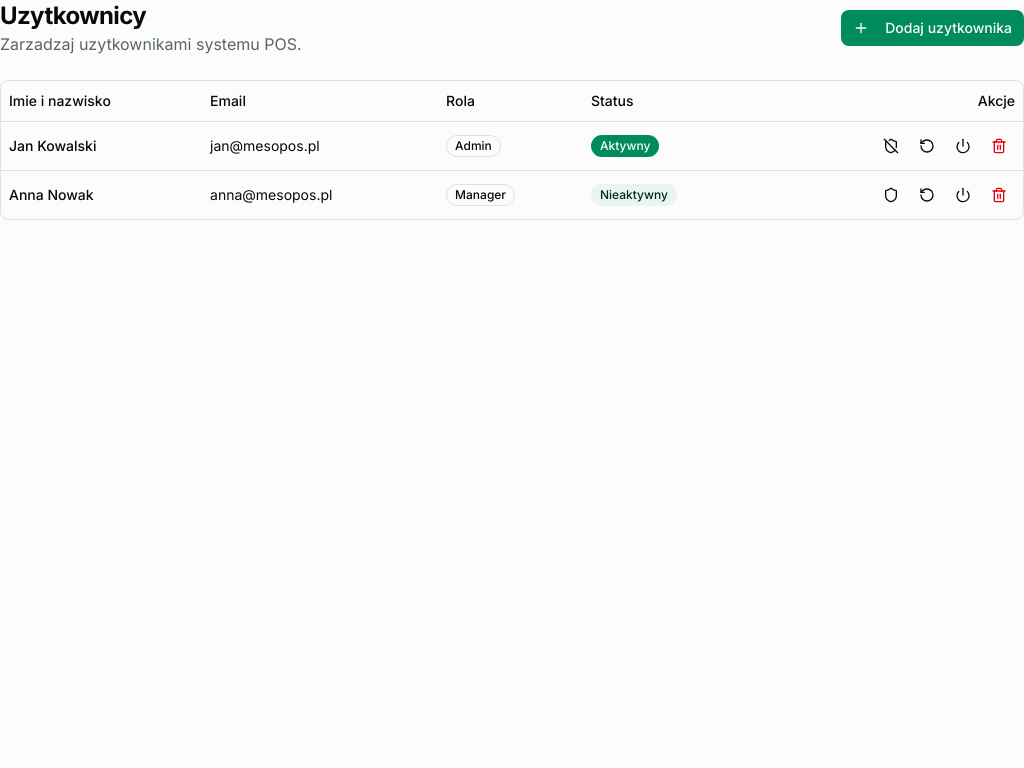
Test case: AdminUsersPage › successful user creation closes dialog and reloads list
This screenshot has width=1024, height=768.
Check: the text "Jan Kowalski" is shown, box [1,121,202,170]
Click the button "Dodaj uzytkownika" at [933, 28], box [841,10,1023,46]
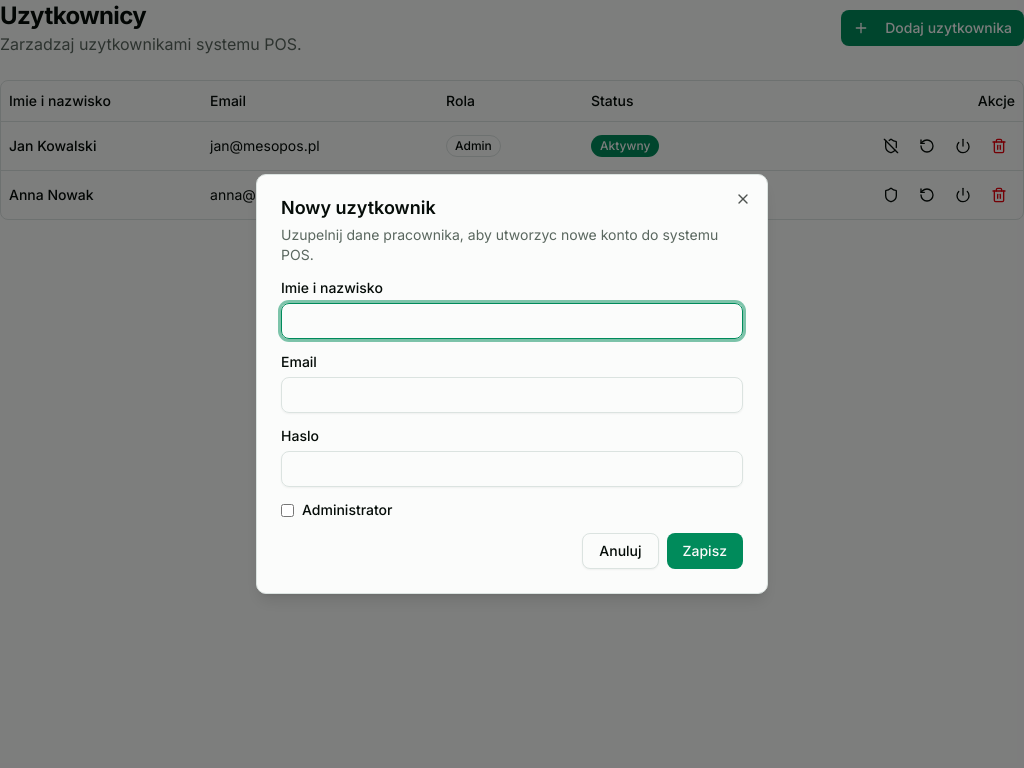
Check: the dialog is shown, box [256,174,768,594]
# Fill the form
Type "Nowy Pracownik" into the field labelled "Imie i nazwisko" at [512, 321], box [281,303,743,339]
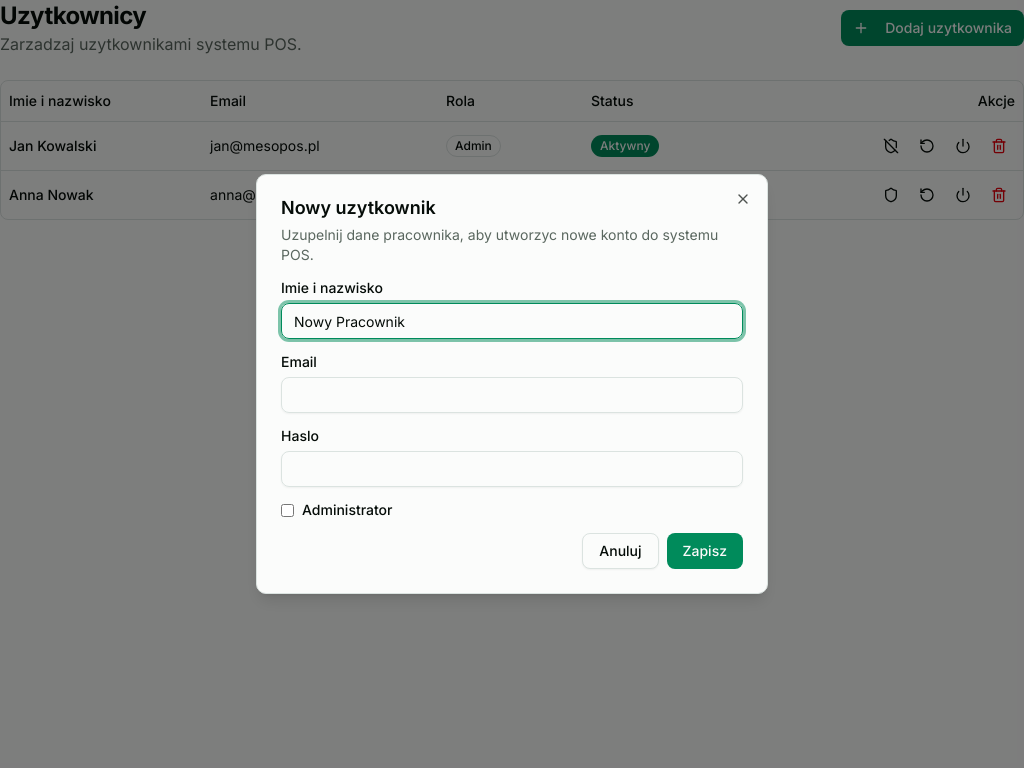
Type "nowy@mesopos.pl" into the field labelled "Email" at [512, 395], box [281,377,743,413]
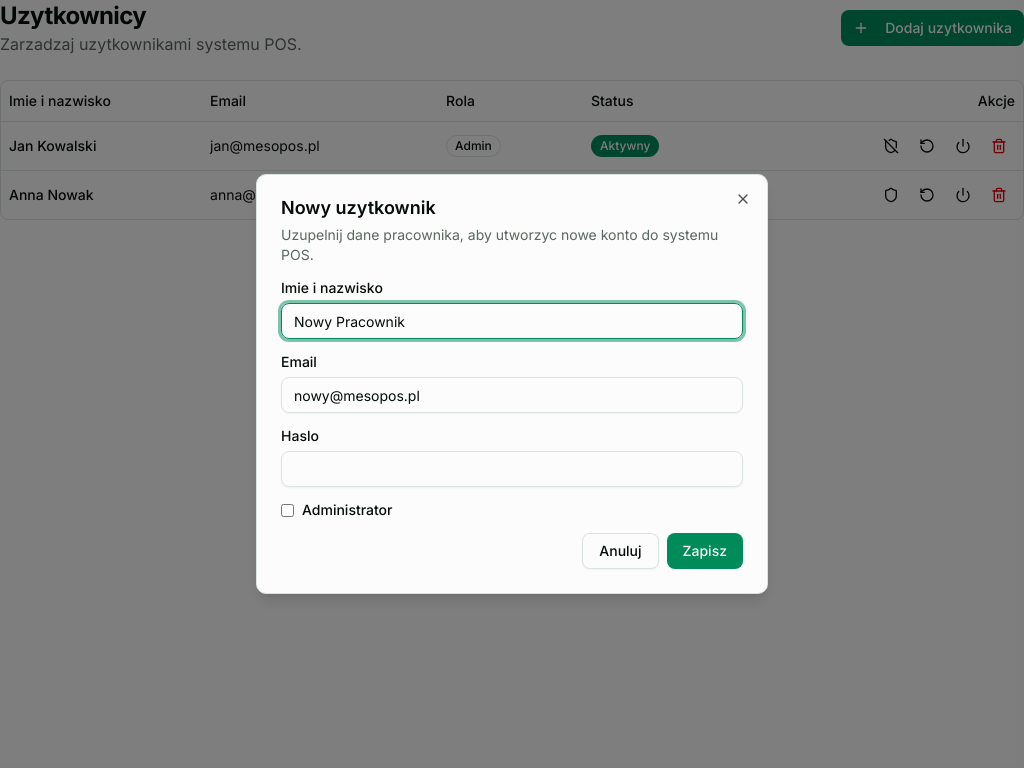
Type "securePass1" into the password field labelled "Haslo" at [512, 469], box [281,451,743,487]
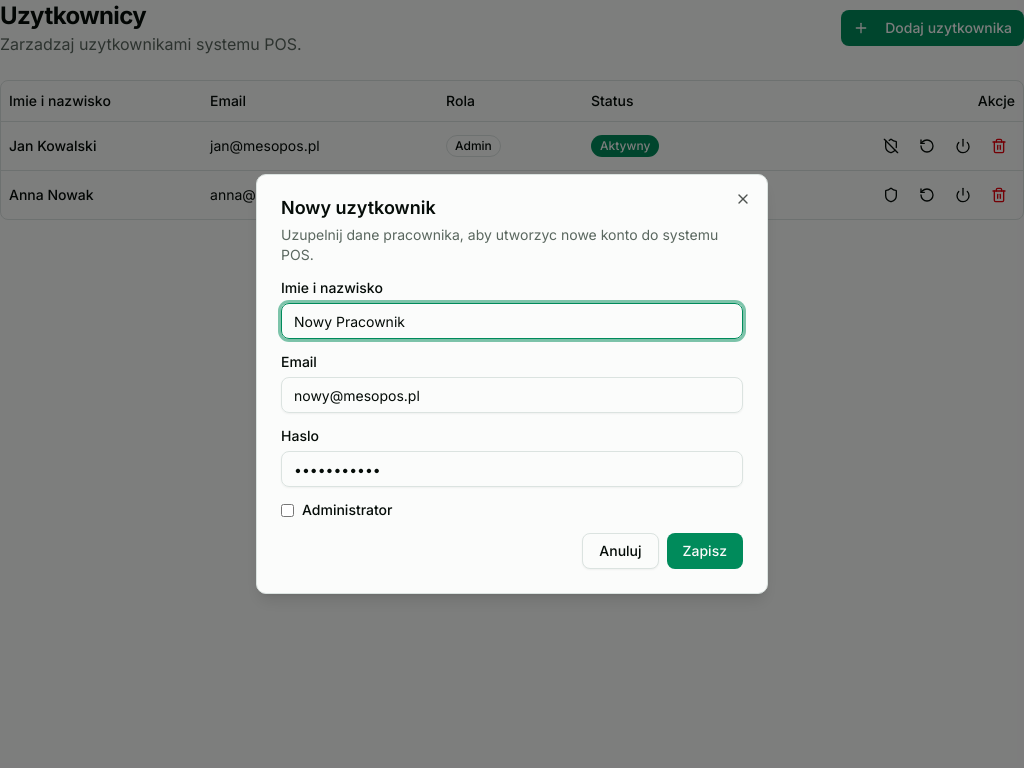
# Submit the form
Click the button "Zapisz" at [705, 551], box [666,533,743,569]
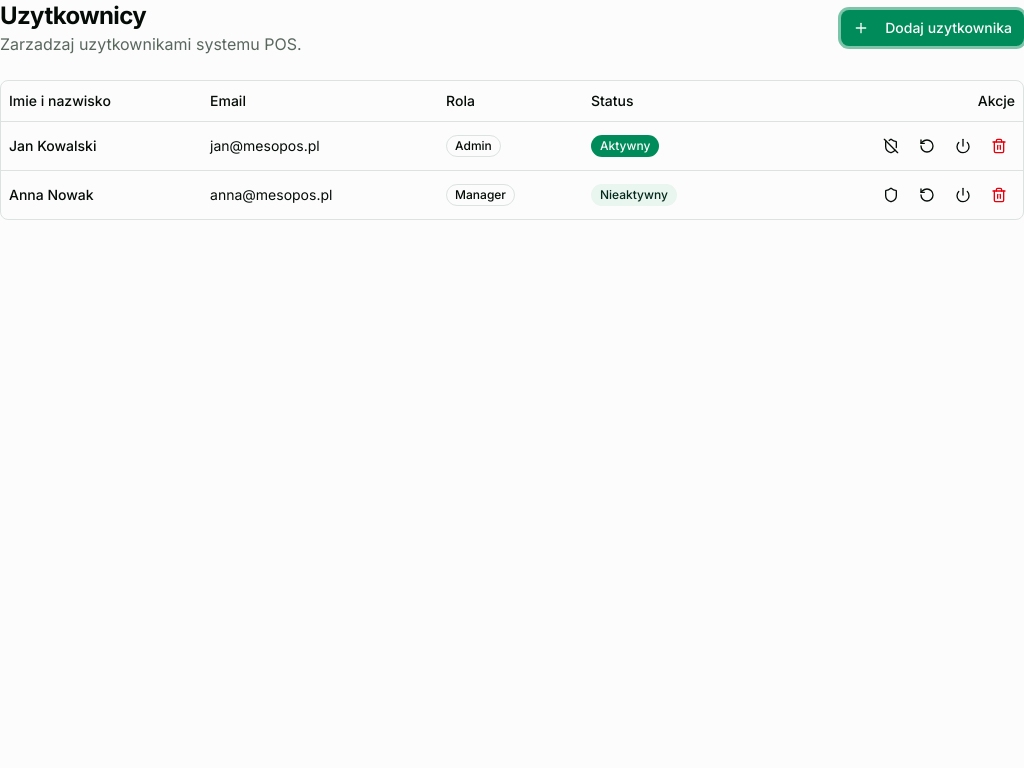
Check: the dialog is gone
